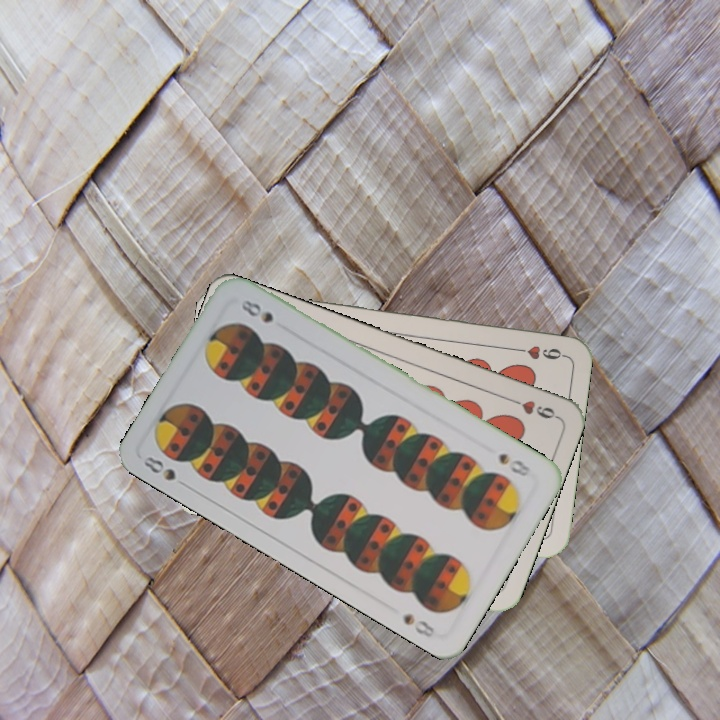H9: (503, 393, 560, 422), (508, 341, 567, 363)
S8: (139, 452, 192, 492), (494, 449, 534, 479)
